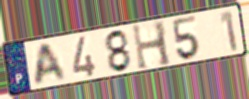1: (219, 9, 240, 54)
4: (71, 34, 98, 78)
5: (170, 14, 202, 63)
8: (102, 27, 132, 75)
A: (33, 41, 69, 87)
H: (130, 19, 174, 72)
